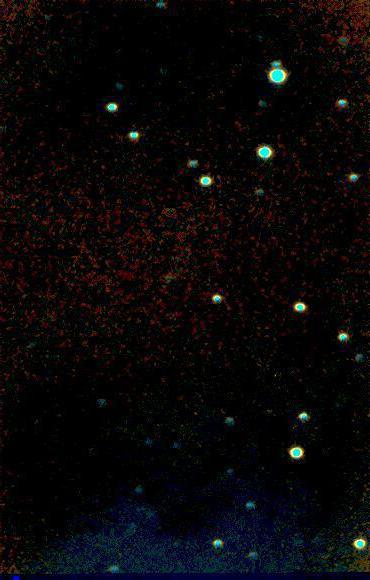star: (265, 364, 295, 394)
